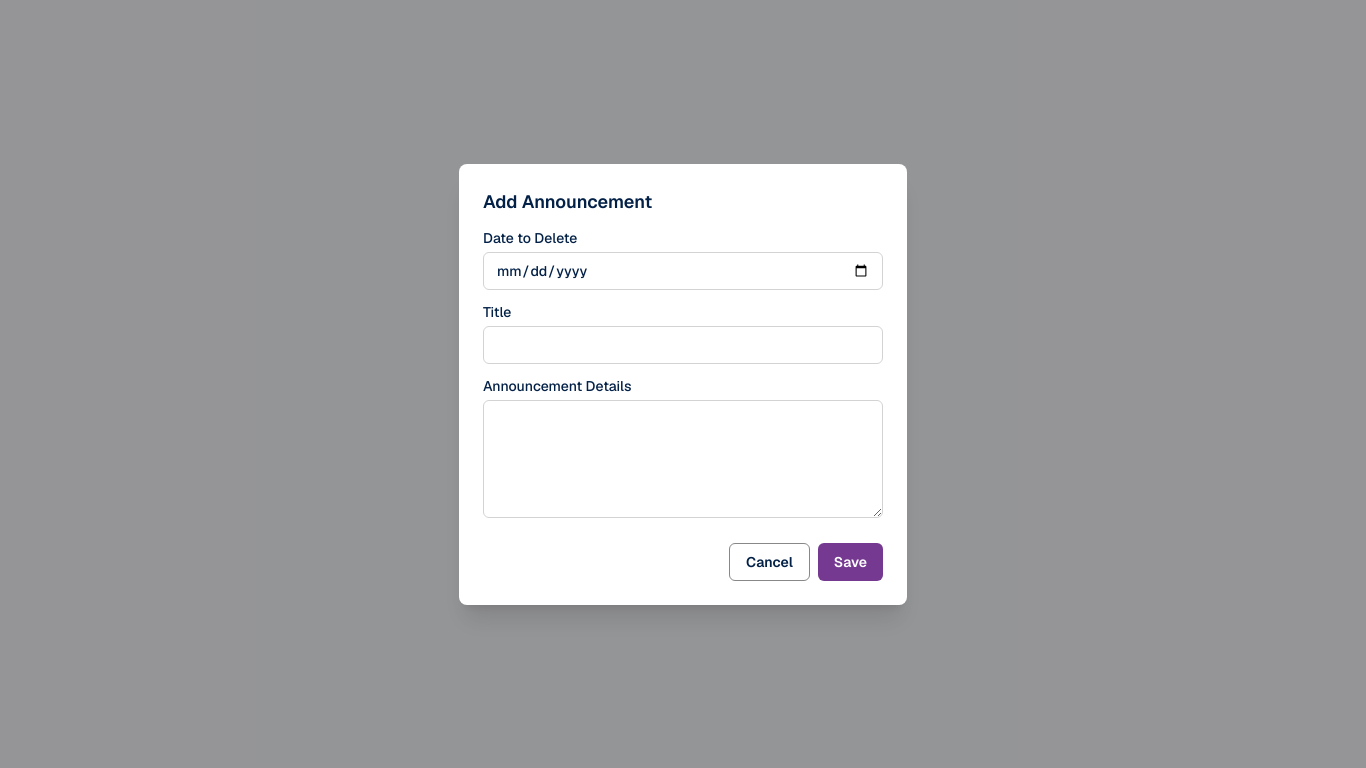
AnnouncementFormModal › blocks save and shows errors when required fields are empty
What coordinates should you click on to do the following:
click the button "Save"
I would click on:
 (850, 562)
Its box is [818,542,883,580].
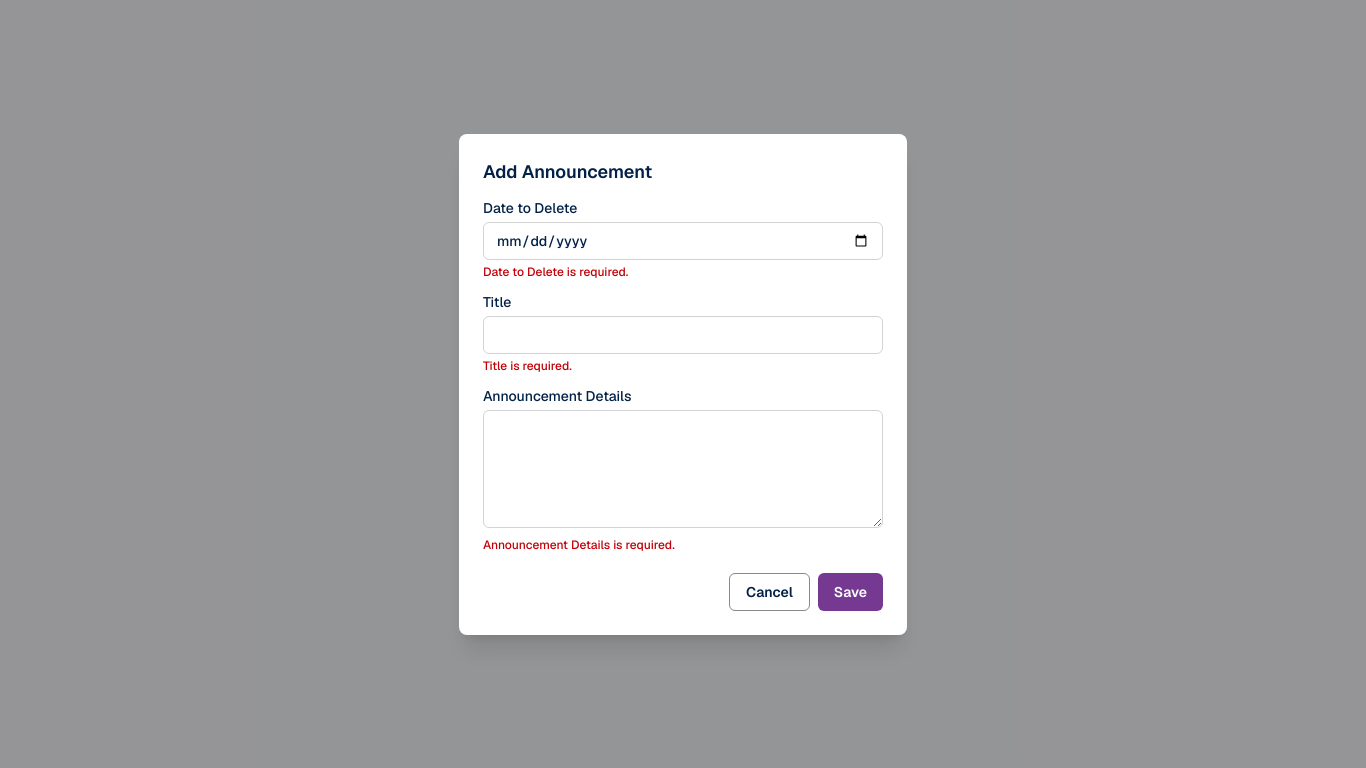
Result: the text "Date to Delete is required." is shown at [483,264,628,280]
Result: the text "Title is required." is shown at [483,358,572,374]
Result: the text "Announcement Details is required." is shown at [483,536,675,552]
